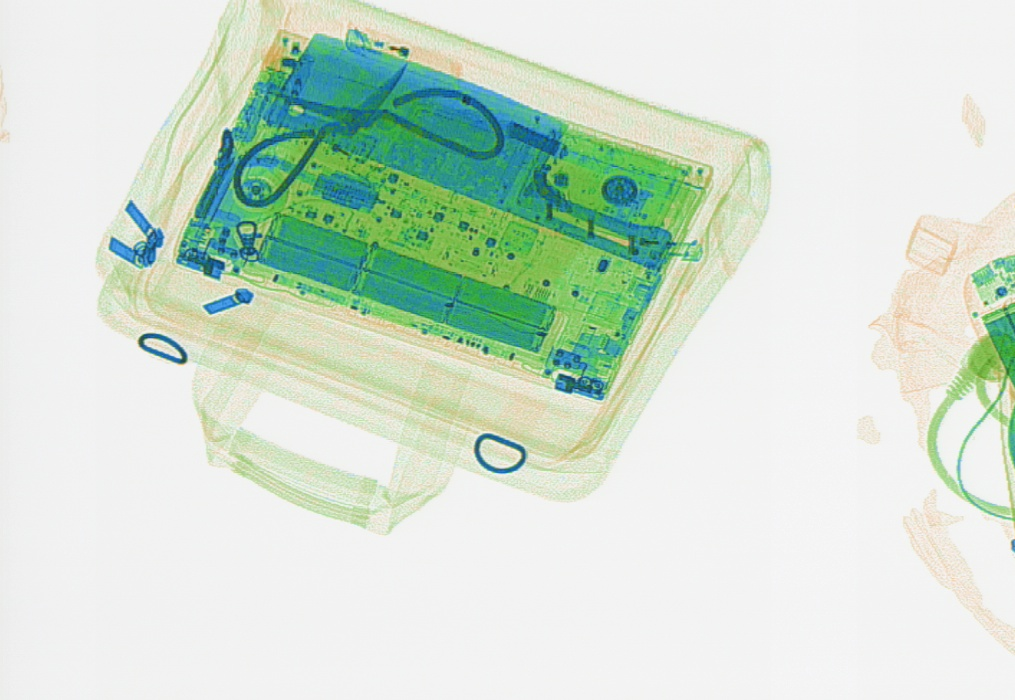knife: (263, 28, 675, 272)
lighter: (343, 22, 467, 90)
scissors: (231, 60, 507, 208)
